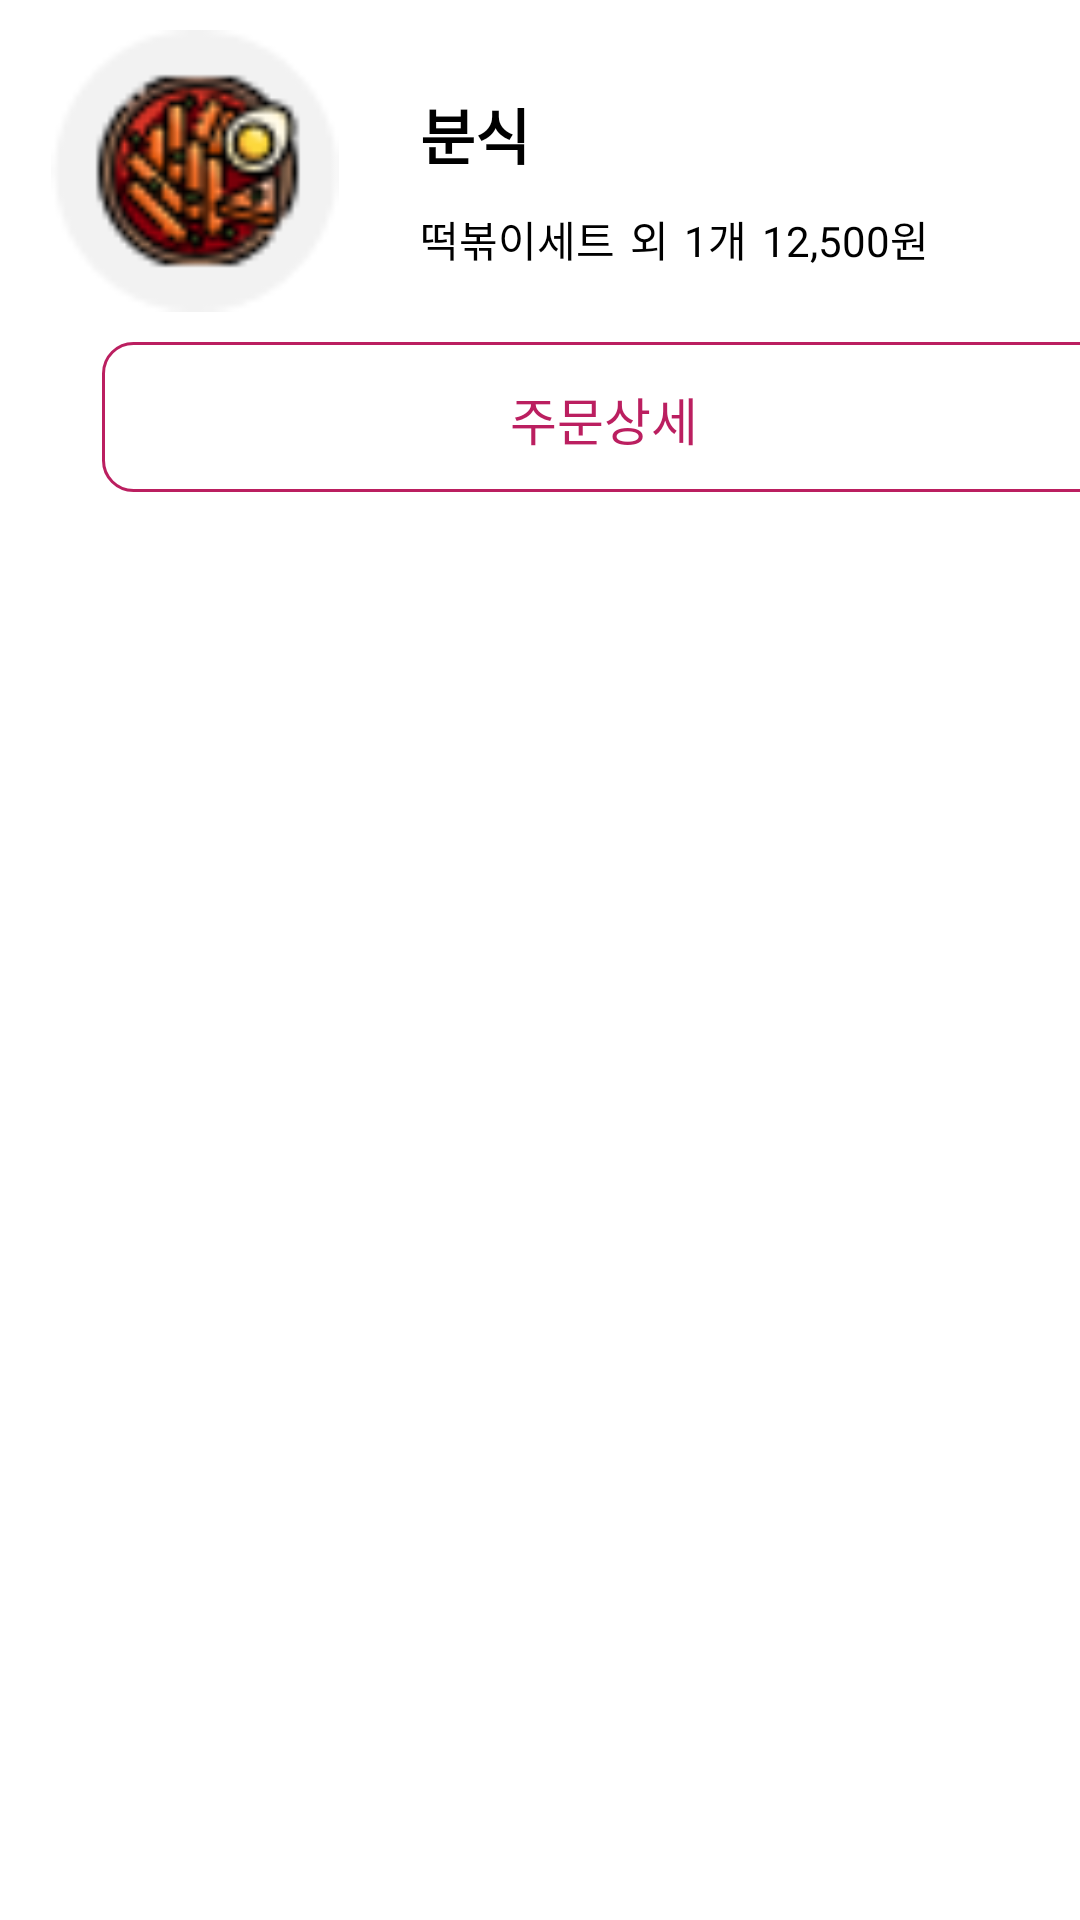

Point at icon controls on the screen. Image size 1080 × 1920, points as point (x, y).
boonsik: point (197, 171)
